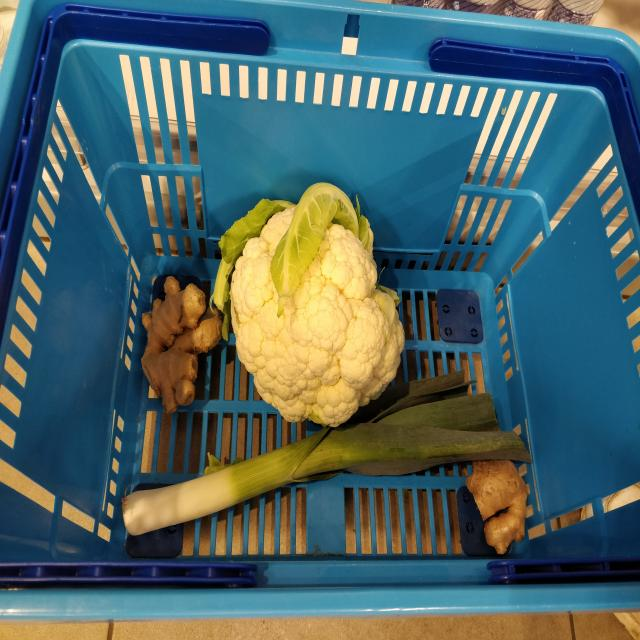Cauliflower head: (222, 184, 407, 430)
Ginger: (141, 276, 222, 414), (466, 461, 530, 552)
Leek: (122, 371, 531, 536)
